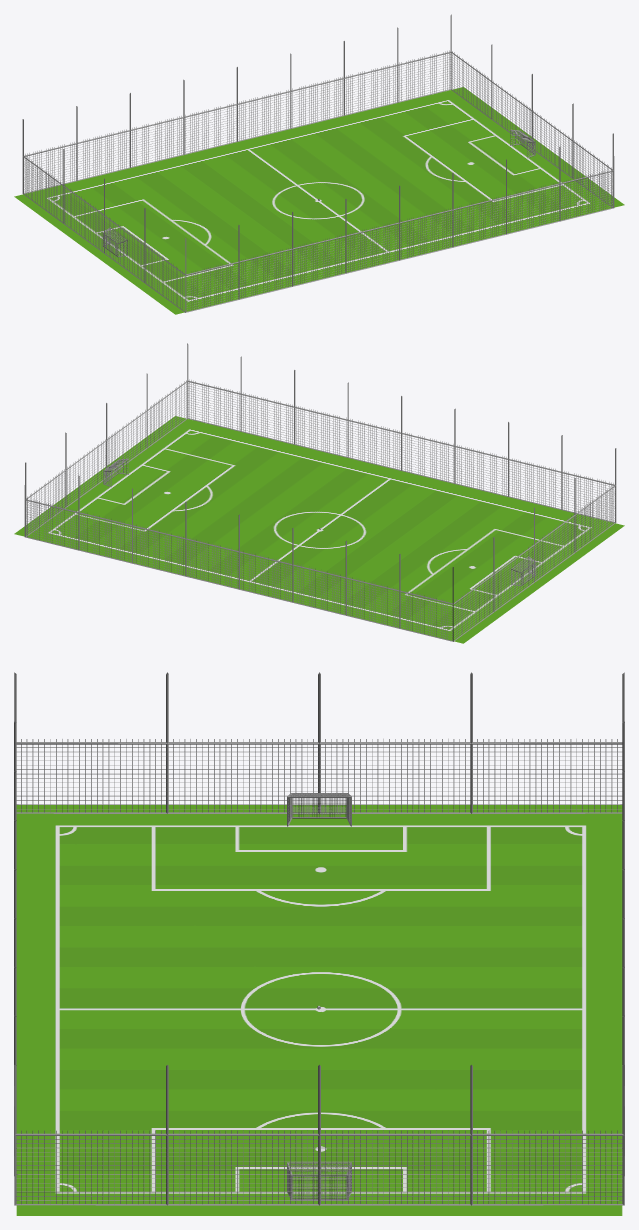
Rendered from GameBatBong.fbx.
The picture shows the model from 3 angles, top to bottom: view 1: azimuth 30°, elevation 25°; view 2: azimuth 150°, elevation 25°; view 3: azimuth 270°, elevation 25°; orthographic projection. The views are drawn at different scales.
Visible parts, largest first — view 1: Plane001, FootBall_Stadium_001, Gon2; view 2: Plane001, FootBall_Stadium_001, Gon2; view 3: Plane001, FootBall_Stadium_001, Gon1, Gon2.
Boxes of the visible parts, box(x1,y1,x2,y2) form: Plane001: box(14, 87, 624, 314); FootBall_Stadium_001: box(22, 14, 614, 312); Gon2: box(103, 227, 127, 256); Plane001: box(14, 416, 624, 643); FootBall_Stadium_001: box(24, 343, 616, 641); Gon2: box(511, 556, 535, 585); Plane001: box(16, 805, 622, 1215); FootBall_Stadium_001: box(14, 672, 624, 1205); Gon1: box(287, 1162, 351, 1200); Gon2: box(287, 793, 351, 826).
Size of the model in its own units: 56761 by 9062 by 35621.
Materials: 3 (2 with a texture image).
